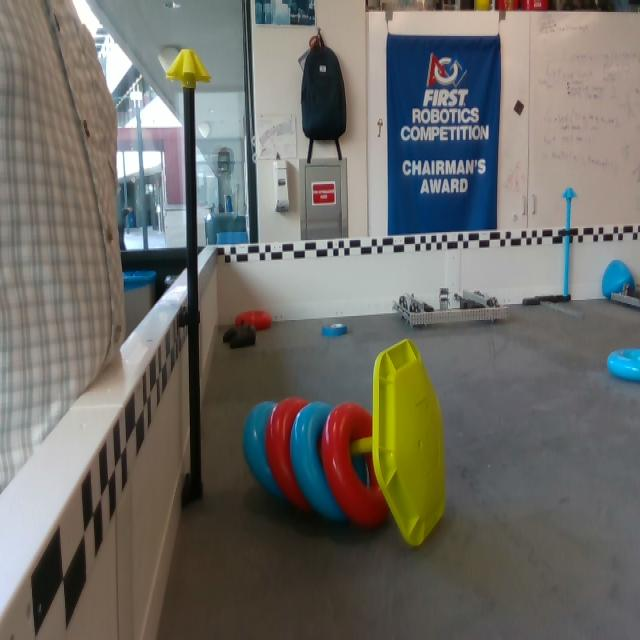Blue-Ring: (291, 401, 348, 528), (242, 402, 287, 500), (605, 348, 639, 380), (321, 318, 351, 337)
Mobile-Goal: (244, 338, 451, 554)
Red-Ring: (322, 401, 389, 532), (266, 397, 314, 510), (235, 311, 273, 332)
Yellow-Stake-Head: (165, 46, 213, 84)
zblue-Stake-Head: (560, 186, 578, 199)
